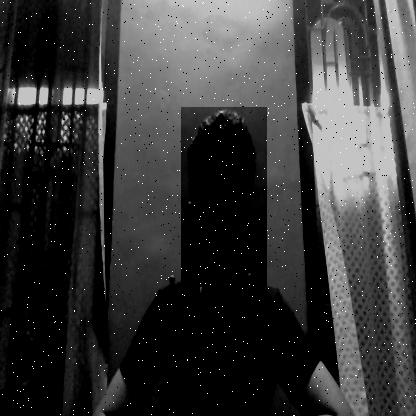Normal: (181, 107, 267, 287)
